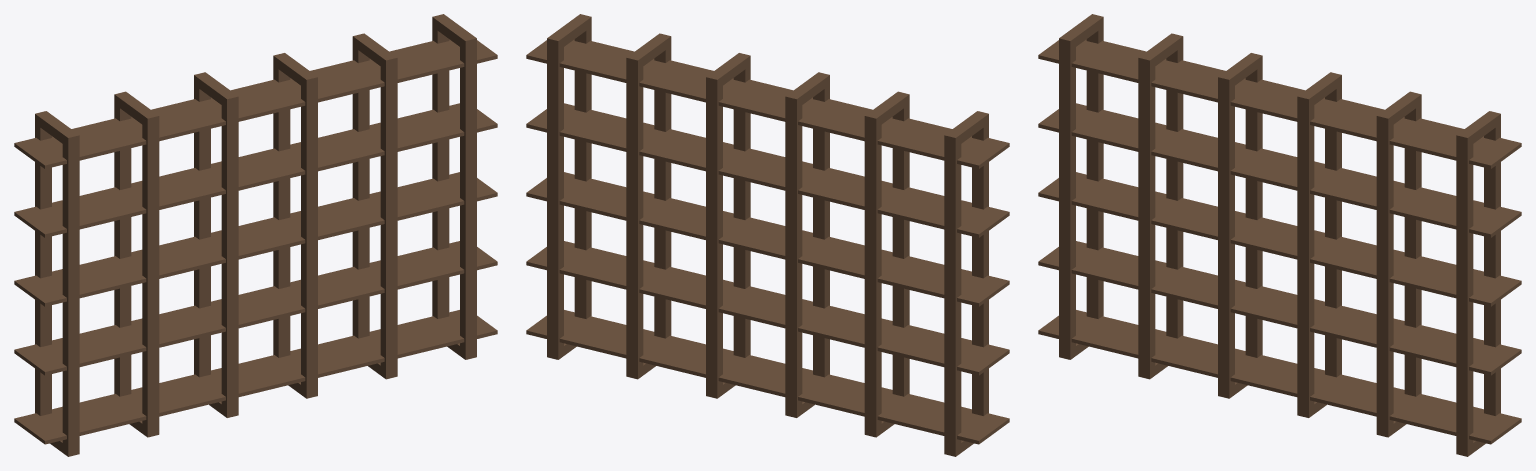
The model's file is bookshelf_divider.glb.
The picture shows the model from 3 angles, left to right: view 1: azimuth 30°, elevation 25°; view 2: azimuth 150°, elevation 25°; view 3: azimuth 330°, elevation 25°; orthographic projection.
Parts seen in each view (by area): view 1: Cube.025, Cube.027, Cube.026, Cube.024, Cube.028, Cube, Cube.004, Cube.008, Cube.016, Cube.012, Cube.020, Cube.001 (+11 smaller); view 2: Cube.025, Cube.027, Cube.026, Cube.024, Cube.028, Cube.005, Cube.009, Cube.017, Cube.001, Cube.013, Cube.021, Cube (+11 smaller); view 3: Cube.025, Cube.027, Cube.026, Cube.024, Cube.028, Cube.016, Cube.012, Cube.004, Cube.020, Cube.008, Cube, Cube.021 (+11 smaller).
Part boxes in pixels (x1,y1,x2,y2): Cube.025: (14, 241, 497, 375); Cube.027: (14, 103, 497, 237); Cube.026: (14, 172, 497, 306); Cube.024: (14, 310, 497, 444); Cube.028: (14, 39, 497, 168); Cube: (62, 131, 79, 456); Cube.004: (142, 112, 159, 436); Cube.008: (221, 93, 238, 417); Cube.016: (380, 58, 397, 379); Cube.012: (301, 74, 317, 398); Cube.020: (460, 37, 476, 359); Cube.001: (35, 111, 51, 415); Cube.025: (526, 241, 1009, 375); Cube.027: (526, 103, 1009, 237); Cube.026: (526, 172, 1009, 306); Cube.024: (526, 310, 1009, 444); Cube.028: (526, 39, 1009, 168); Cube.005: (864, 112, 881, 437); Cube.009: (785, 93, 802, 417); Cube.017: (626, 56, 643, 379); Cube.001: (944, 131, 961, 456); Cube.013: (706, 76, 722, 398); Cube.021: (547, 37, 563, 359); Cube: (972, 111, 988, 415); Cube.025: (1038, 241, 1521, 375); Cube.027: (1038, 103, 1521, 237); Cube.026: (1038, 172, 1521, 306); Cube.024: (1038, 310, 1521, 444); Cube.028: (1038, 39, 1521, 168); Cube.016: (1376, 112, 1393, 437); Cube.012: (1297, 93, 1314, 417); Cube.004: (1138, 57, 1155, 379); Cube.020: (1456, 131, 1473, 456); Cube.008: (1218, 76, 1234, 398); Cube: (1059, 37, 1075, 359); Cube.021: (1484, 111, 1500, 415).
Size of the model in its own units: 2.49 by 1.68 by 0.317.
